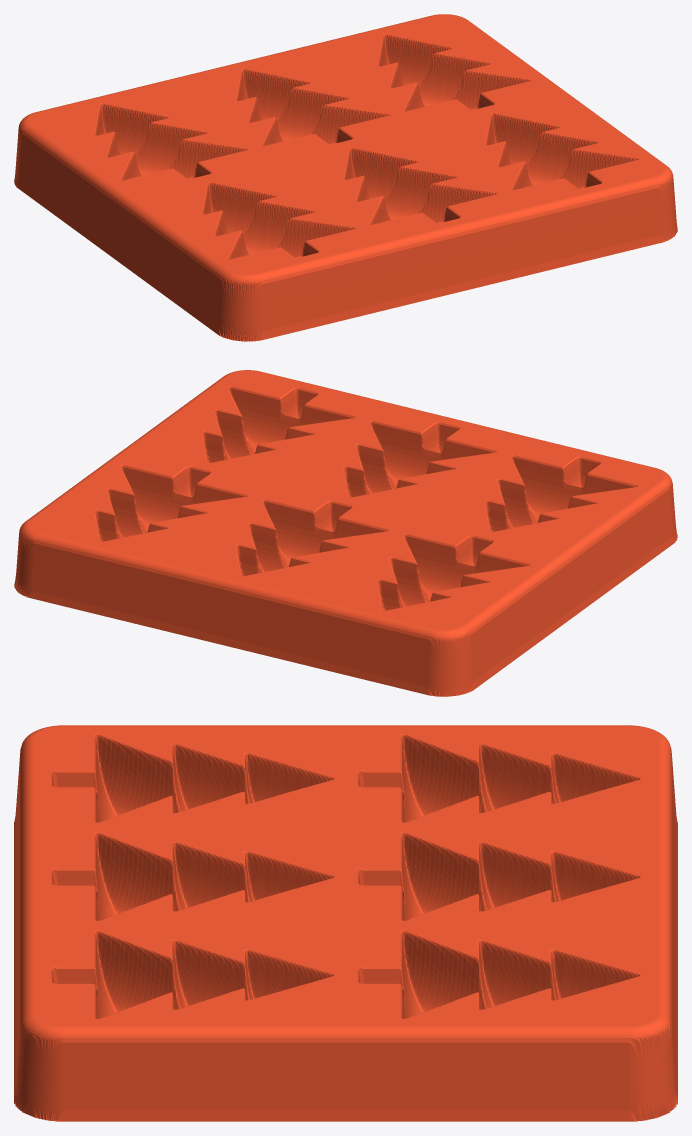
Rendered from mold.glb.
The picture shows the model from 3 angles, top to bottom: view 1: azimuth 30°, elevation 25°; view 2: azimuth 150°, elevation 25°; view 3: azimuth 270°, elevation 25°; orthographic projection. The views are drawn at different scales.
Parts seen in each view (by area): view 1: geometry_0; view 2: geometry_0; view 3: geometry_0.
Part boxes in pixels (x1,y1,x2,y2): geometry_0: [14, 14, 677, 341]; geometry_0: [14, 370, 677, 696]; geometry_0: [14, 725, 677, 1121].
Size of the model in its own units: 0.1366 by 0.0175 by 0.1211.
